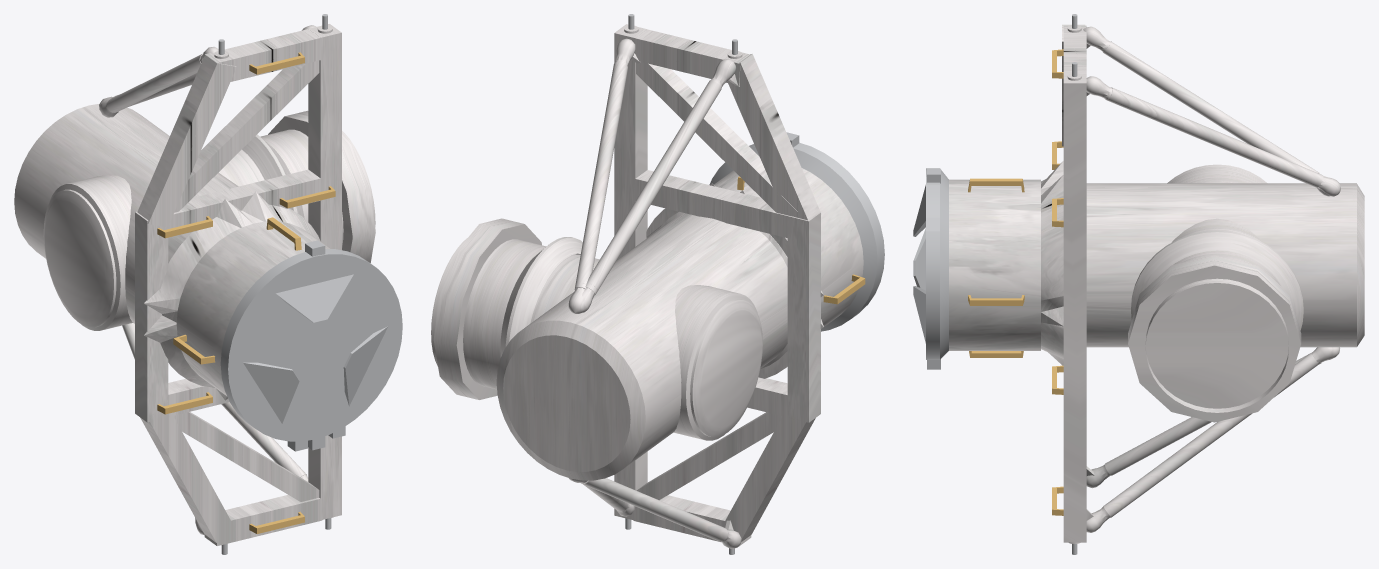
File: orbiter-docking-system.glb
3 renders of one model, left to right at view 1: azimuth 30°, elevation 25°; view 2: azimuth 150°, elevation 25°; view 3: azimuth 270°, elevation 25°, orthographic. The views are drawn at different scales.
Parts seen in each view (by area): view 1: ods.layer1; view 2: ods.layer1; view 3: ods.layer1.
Boxes of the visible parts, x1,y1,x2,y2 form: ods.layer1: (14,14,402,554); ods.layer1: (431,14,884,554); ods.layer1: (913,14,1364,554).
Size of the model in its own units: 2.57 by 4.6 by 3.84.
3 materials, 1 textured.
